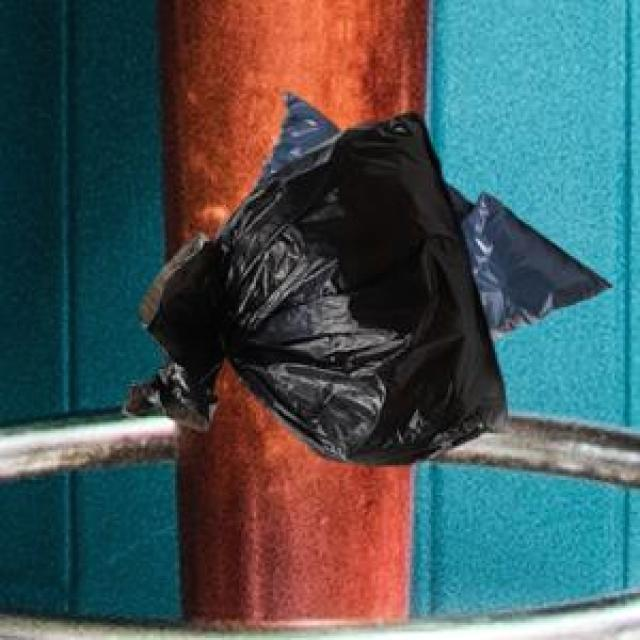Trashbag: (161, 132, 478, 456), (458, 176, 594, 332)
